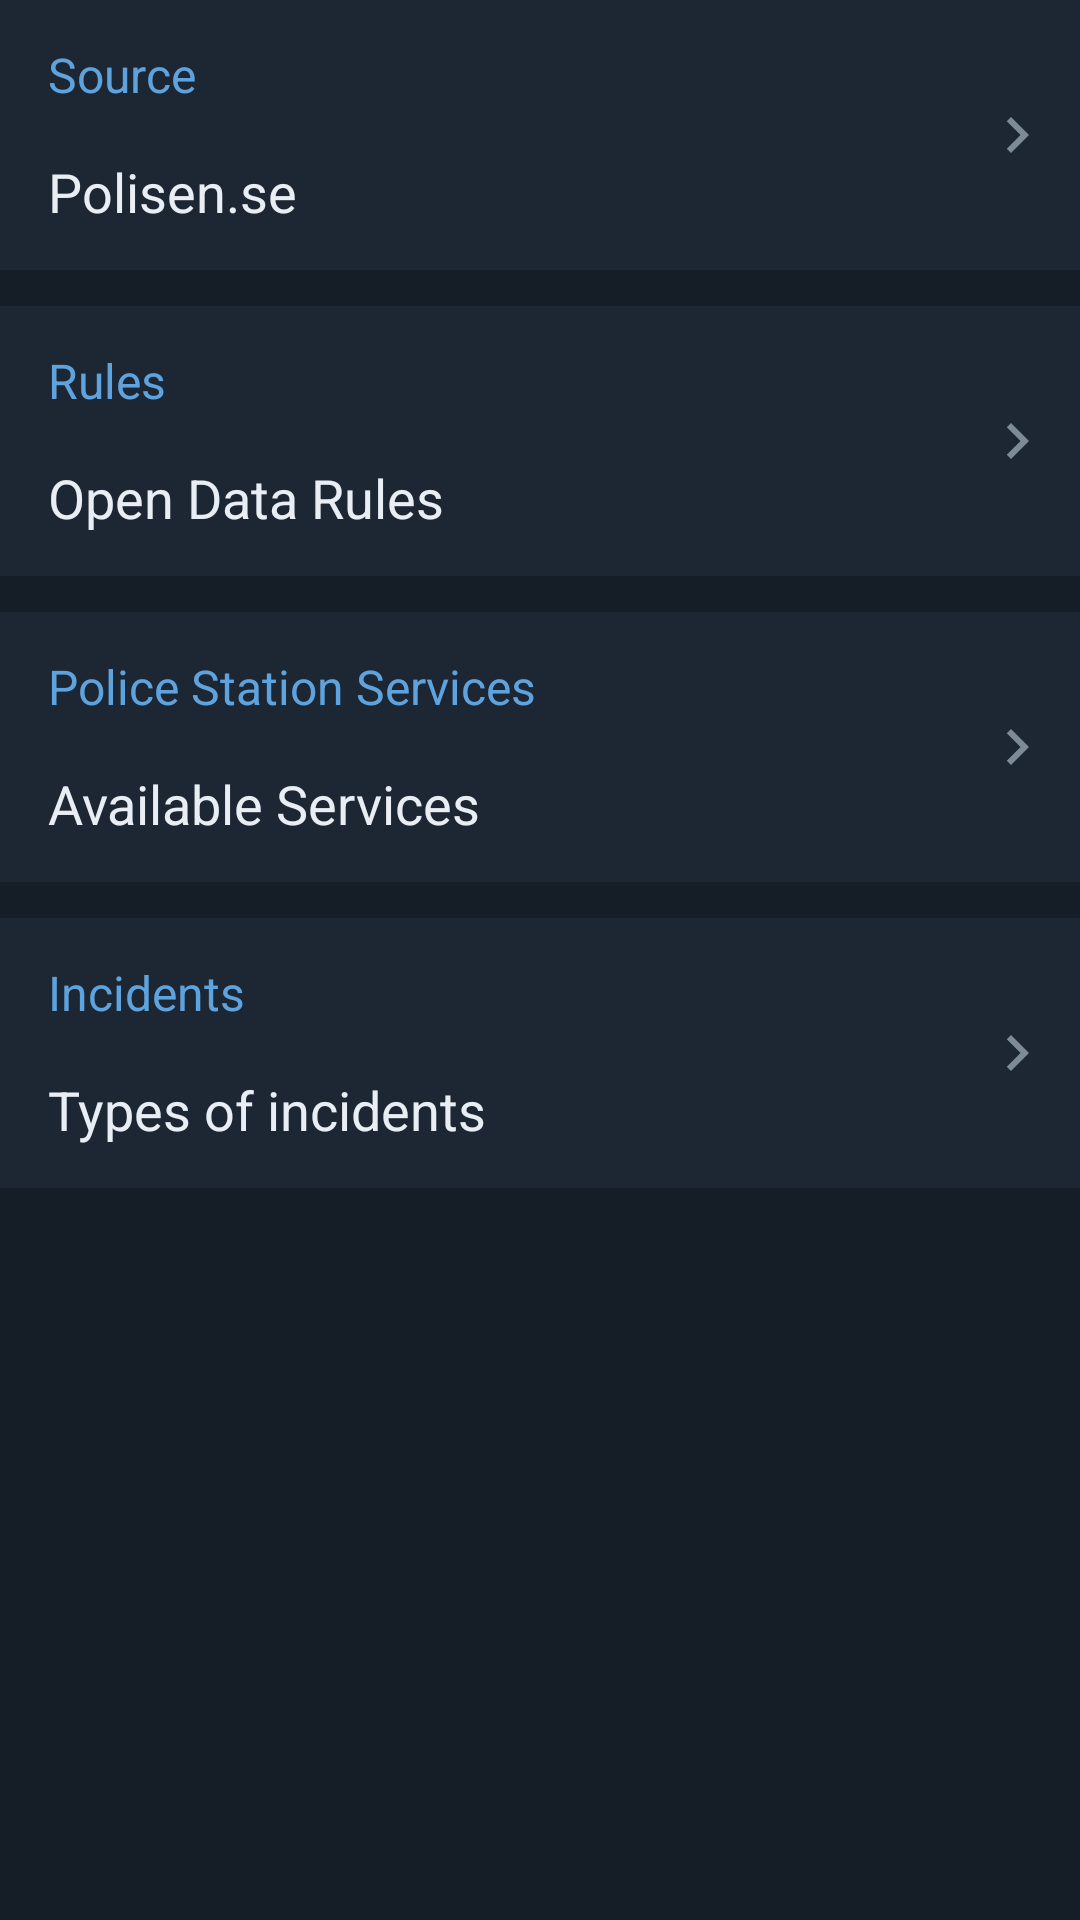

Icons on this 1080px×1920px Android screen, each with the point to tap as (x,y):
chevron: (1018,135), (1018,441), (1018,747), (1018,1053)
